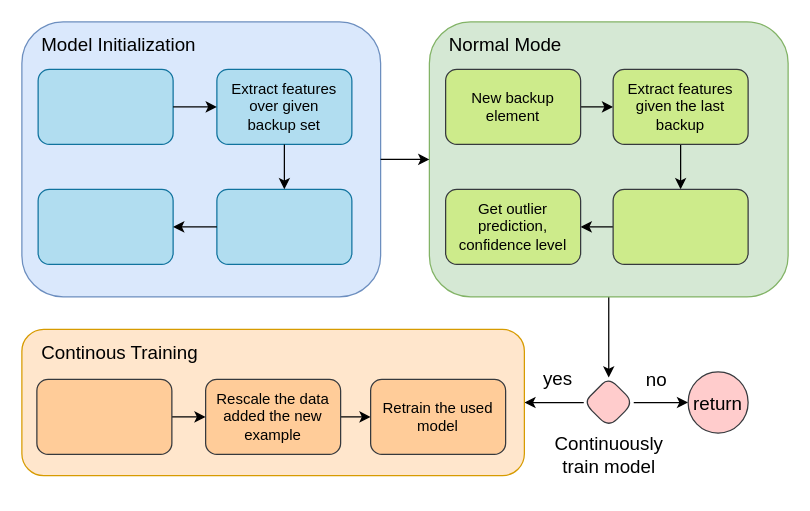
The diagram is 810 pixels wide and 511 high, and some of its shapes have lost their labels. The centre of each missing label's shape, as x and y in pixels:
"Fit scalers and parse features" goes at point (284, 226).
"Given the previous features, refit the scalars" goes at point (104, 416).
"Initial backup set" goes at point (105, 106).
"Scale features given previously stored scalars" goes at point (680, 226).
"Train model" goes at point (105, 226).
